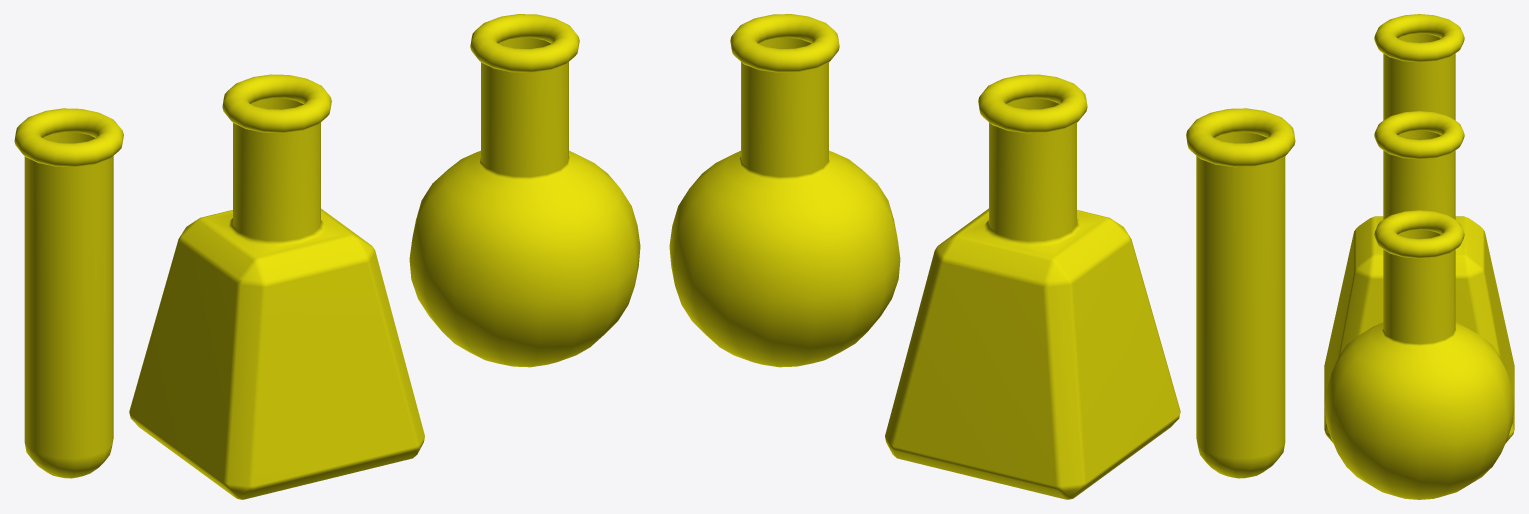
The model's file is SM_Potions.fbx.
3 renders of one model, left to right at view 1: azimuth 30°, elevation 25°; view 2: azimuth 150°, elevation 25°; view 3: azimuth 270°, elevation 25°, orthographic. The views are drawn at different scales.
Visible parts, largest first — view 1: SM_SquarePotion, SM_FatPotion, SM_TypicalPotion; view 2: SM_SquarePotion, SM_FatPotion, SM_TypicalPotion; view 3: SM_FatPotion, SM_SquarePotion, SM_TypicalPotion.
Part boxes in pixels (<box>): SM_SquarePotion: <box>129,74,424,499</box>; SM_FatPotion: <box>409,14,640,367</box>; SM_TypicalPotion: <box>14,108,123,478</box>; SM_SquarePotion: <box>885,74,1180,499</box>; SM_FatPotion: <box>669,14,900,367</box>; SM_TypicalPotion: <box>1186,108,1295,478</box>; SM_FatPotion: <box>1324,210,1514,499</box>; SM_SquarePotion: <box>1324,111,1514,442</box>; SM_TypicalPotion: <box>1374,14,1464,120</box>.
Bounding box in the file's own units: 409 × 237 × 136.
